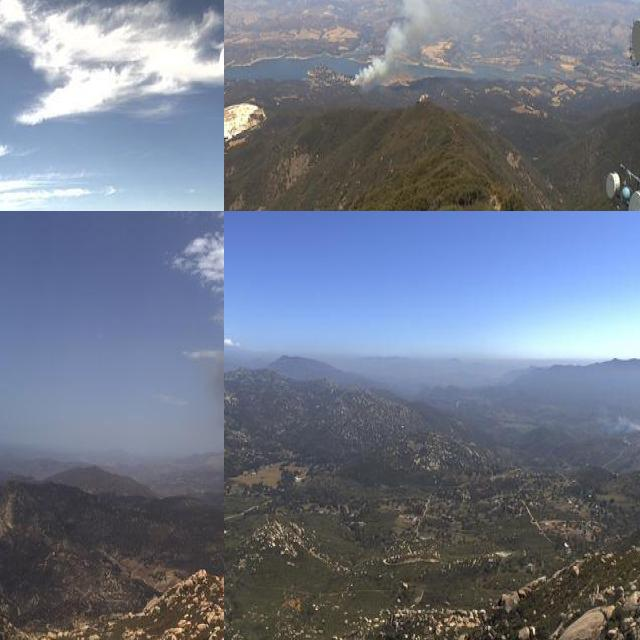smoke: (345, 0, 471, 88), (604, 408, 640, 440)
